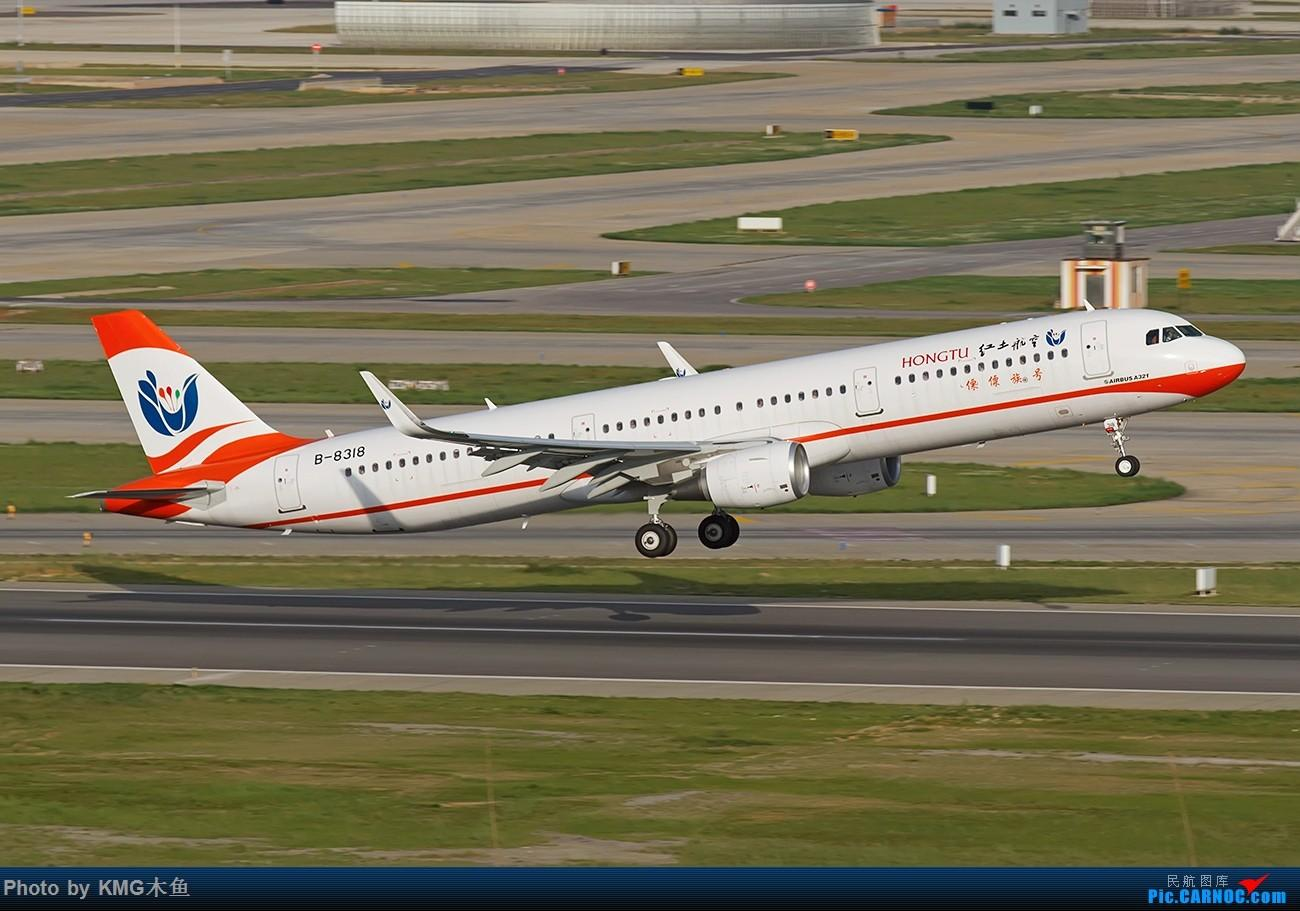airplane: (59, 290, 1251, 560)
